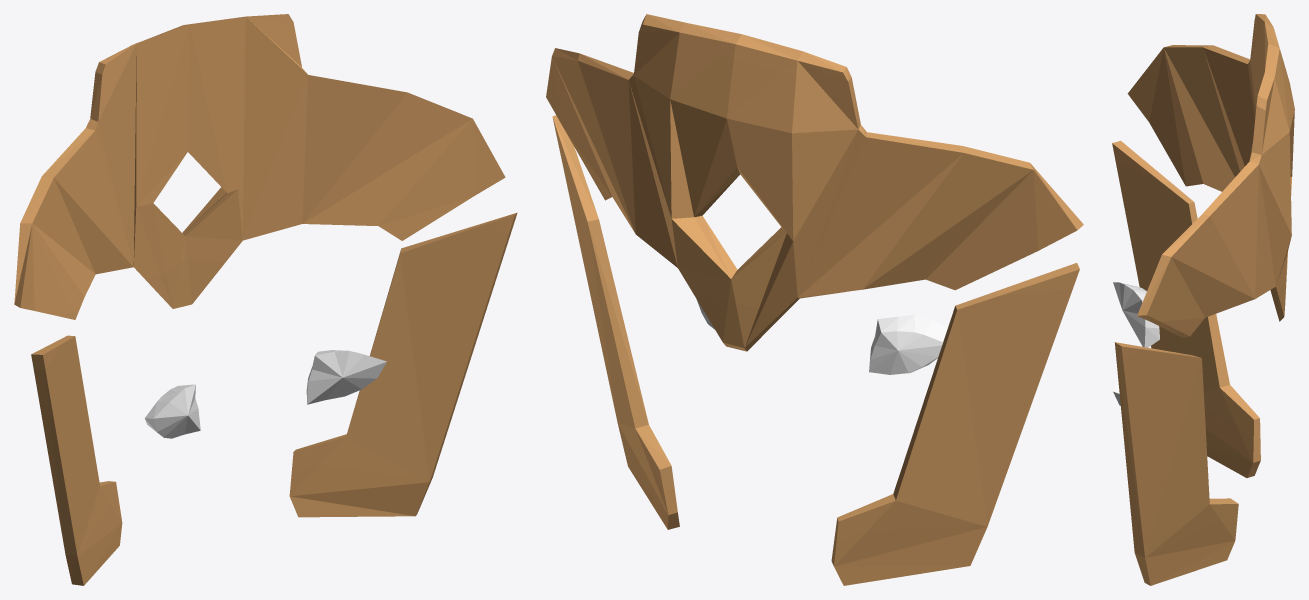
File: CharSkyKid_Mask_ElderDay_02.glb
The picture shows the model from 3 angles, left to right: view 1: azimuth 30°, elevation 25°; view 2: azimuth 150°, elevation 25°; view 3: azimuth 270°, elevation 25°; orthographic projection. The views are drawn at different scales.
Visible parts, largest first — view 1: CharSkyKid_Mask_ElderDay_02; view 2: CharSkyKid_Mask_ElderDay_02; view 3: CharSkyKid_Mask_ElderDay_02.
Boxes of the visible parts, x1,y1,x2,y2 form: CharSkyKid_Mask_ElderDay_02: [14, 14, 517, 585]; CharSkyKid_Mask_ElderDay_02: [546, 14, 1083, 585]; CharSkyKid_Mask_ElderDay_02: [1112, 14, 1294, 585].
Size of the model in its own units: 3.01 by 2.89 by 1.01.
1 material, 1 textured.
